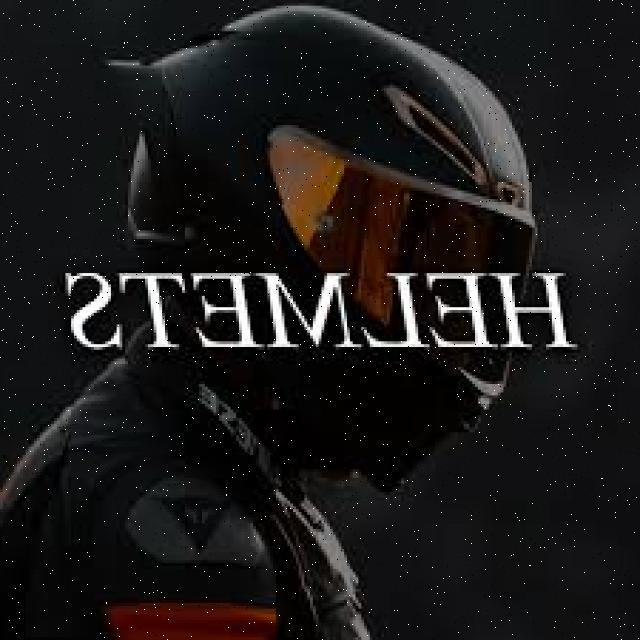Helmet: (72, 9, 572, 489)
